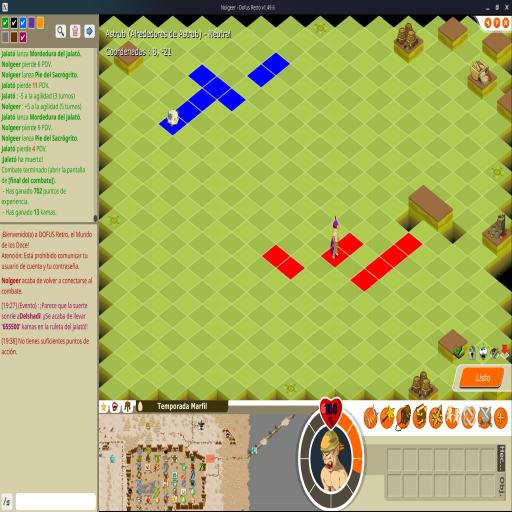Enemigos: (166, 108, 180, 126)
Personaje: (330, 216, 340, 259)
